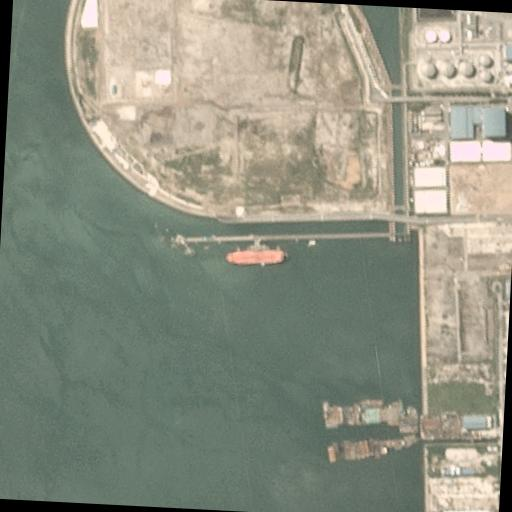ship: (226, 244, 286, 268)
